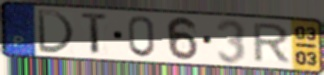0: (127, 15, 157, 59)
3: (215, 17, 249, 67)
6: (164, 15, 200, 62)
D: (35, 8, 77, 56)
R: (251, 22, 293, 65)
T: (80, 10, 111, 57)
